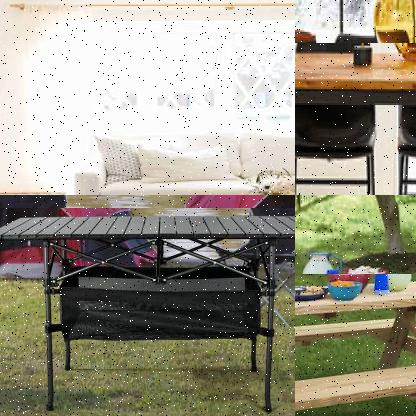table: (0, 208, 294, 414), (295, 43, 415, 194), (295, 274, 415, 415)
